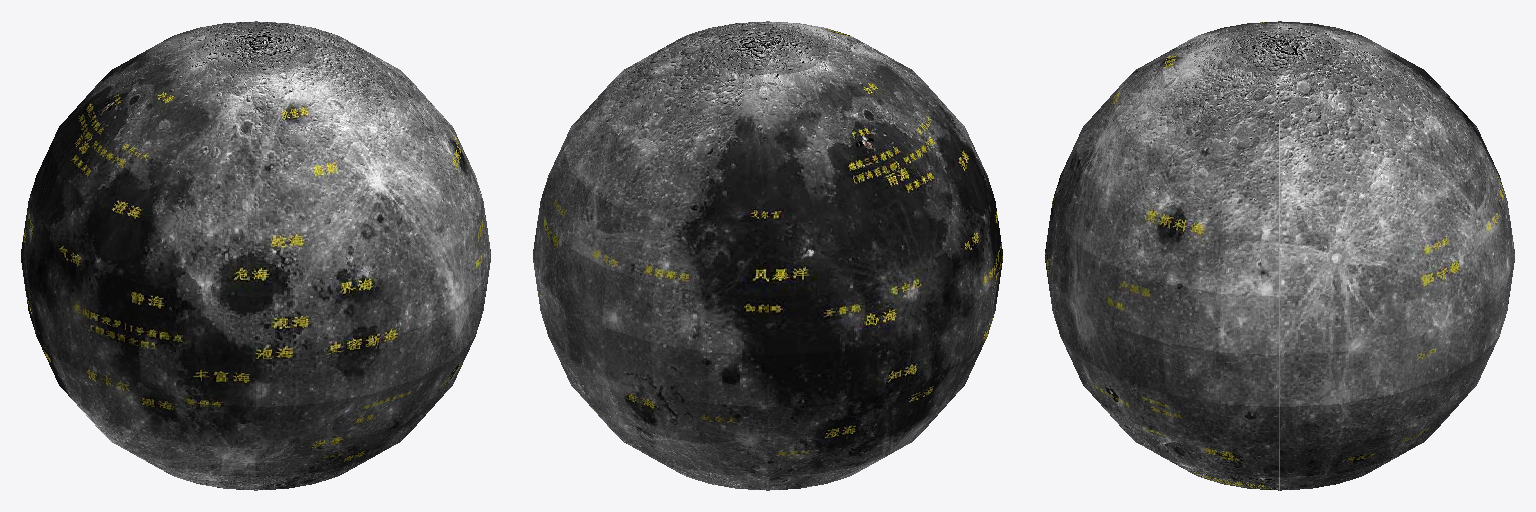
3 views of the same model, side by side, from view 1: azimuth 30°, elevation 25°; view 2: azimuth 150°, elevation 25°; view 3: azimuth 270°, elevation 25° (orthographic).
Visible parts, largest first — view 1: 球体; view 2: 球体; view 3: 球体.
Part boxes in pixels (bbox=[...]): 球体: bbox=[21, 21, 490, 490]; 球体: bbox=[533, 21, 1002, 490]; 球体: bbox=[1045, 21, 1514, 490].
Bounding box in the file's own units: 200 × 200 × 200.
1 materials, 1 textured.